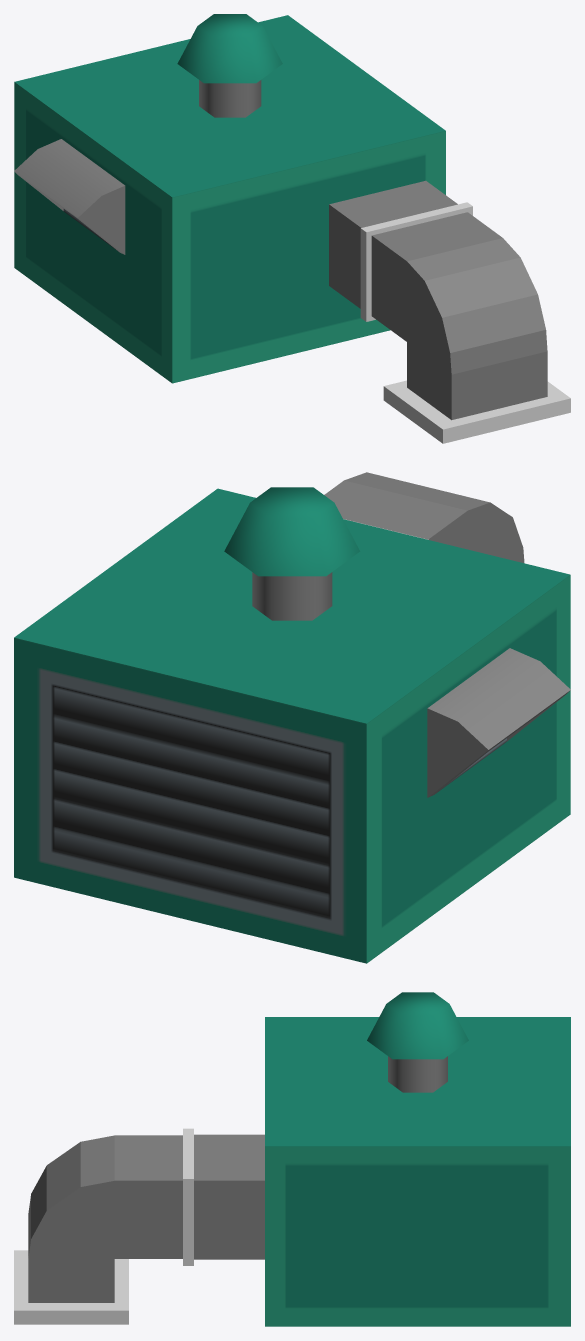
The model's file is ventilation_box.fbx.
3 views of the same model, one above another, from view 1: azimuth 30°, elevation 25°; view 2: azimuth 150°, elevation 25°; view 3: azimuth 270°, elevation 25° (orthographic). The views are drawn at different scales.
Parts seen in each view (by area): view 1: ventilation_box, pipe, cap, ventilation_window; view 2: ventilation_box, cap, ventilation_window, pipe; view 3: ventilation_box, pipe, cap.
Boxes of the visible parts, <box> form: ventilation_box: <box>14,15,445,383</box>; pipe: <box>329,180,570,443</box>; cap: <box>177,14,282,117</box>; ventilation_window: <box>14,139,125,254</box>; ventilation_box: <box>14,488,570,963</box>; cap: <box>224,487,360,620</box>; ventilation_window: <box>427,648,570,797</box>; pipe: <box>324,472,524,562</box>; ventilation_box: <box>265,1017,570,1326</box>; pipe: <box>14,1128,264,1324</box>; cap: <box>367,992,468,1092</box>.
Size of the model in its own units: 235 by 186 by 364.
